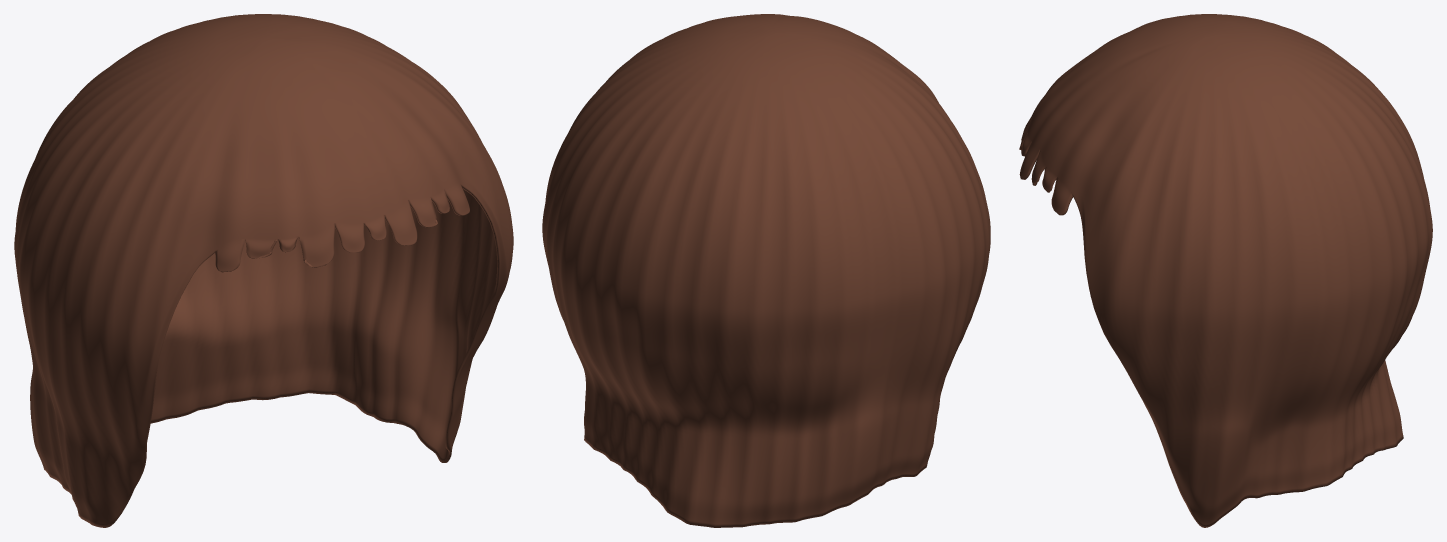
The model's file is fringe.glb.
The picture shows the model from 3 angles, left to right: view 1: azimuth 30°, elevation 25°; view 2: azimuth 150°, elevation 25°; view 3: azimuth 270°, elevation 25°; orthographic projection. The views are drawn at different scales.
Parts seen in each view (by area): view 1: Hair / soft brow fringe; view 2: Hair / soft brow fringe; view 3: Hair / soft brow fringe.
Part boxes in pixels (x1=…): Hair / soft brow fringe: x1=14, y1=14, x2=513, y2=527; Hair / soft brow fringe: x1=542, y1=14, x2=990, y2=527; Hair / soft brow fringe: x1=1019, y1=14, x2=1432, y2=527.
Size of the model in its own units: 0.8388 by 0.8636 by 0.7785.
